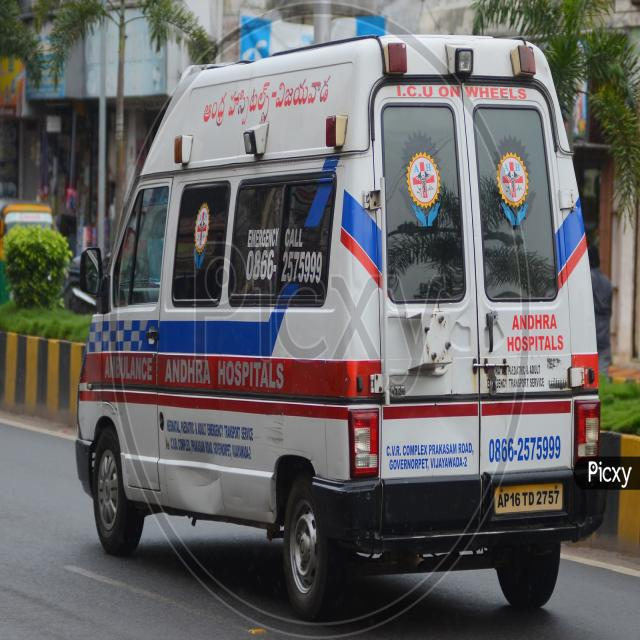ambulance: (76, 35, 608, 614)
